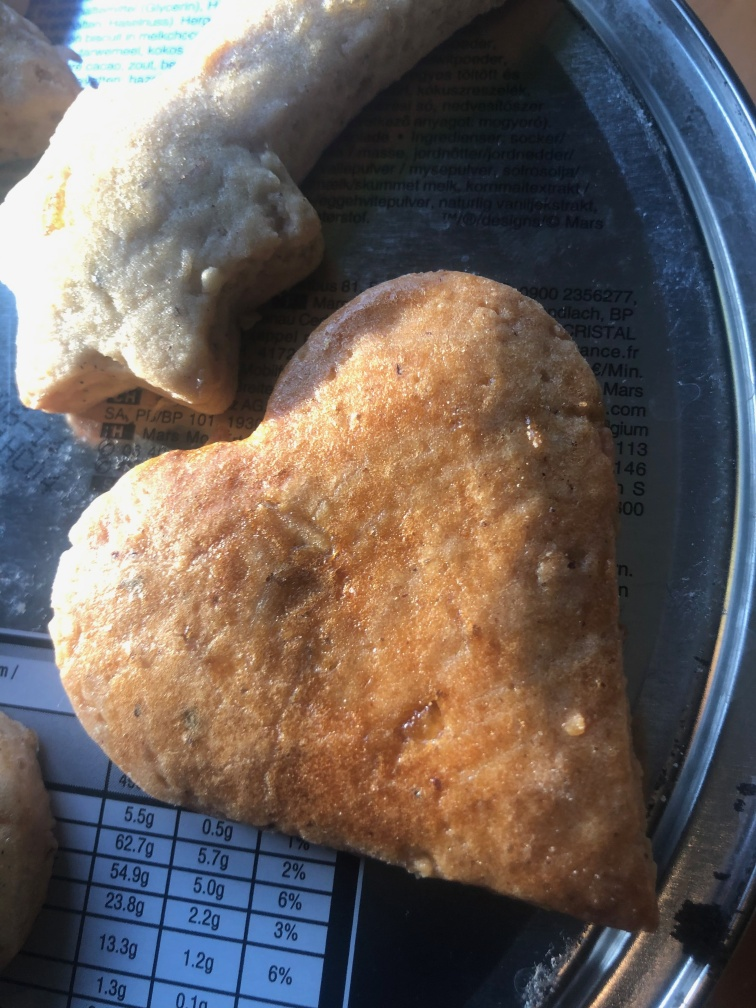heart: (44, 268, 671, 929)
shooting star: (1, 1, 544, 417)
